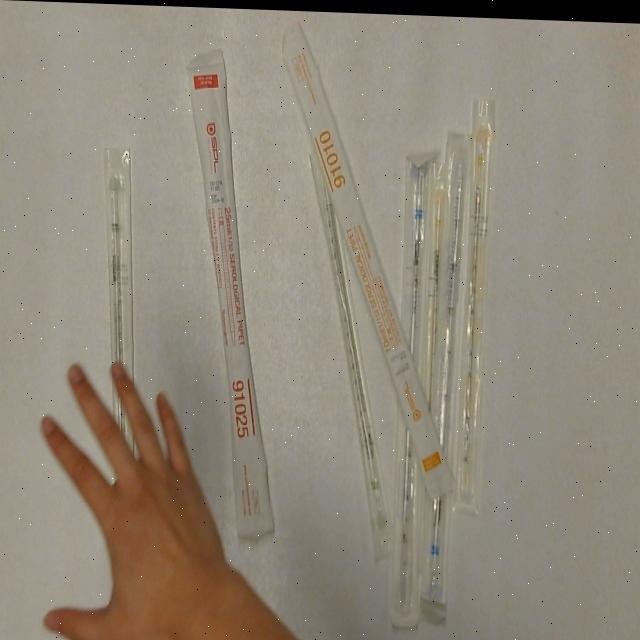Serelogical Pipet 1 mL - Sealed: (452, 85, 500, 515), (419, 151, 458, 417)
Serelogical Pipet 10 mL - Sealed: (280, 18, 456, 499)
Serelogical Pipet 2 mL - Sealed: (310, 144, 394, 562), (102, 138, 134, 429)
Serelogical Pipet 25 mL - Sealed: (185, 43, 279, 548)
Serelogical Pipet 5 mL - Sealed: (385, 138, 442, 632), (420, 121, 475, 612)
